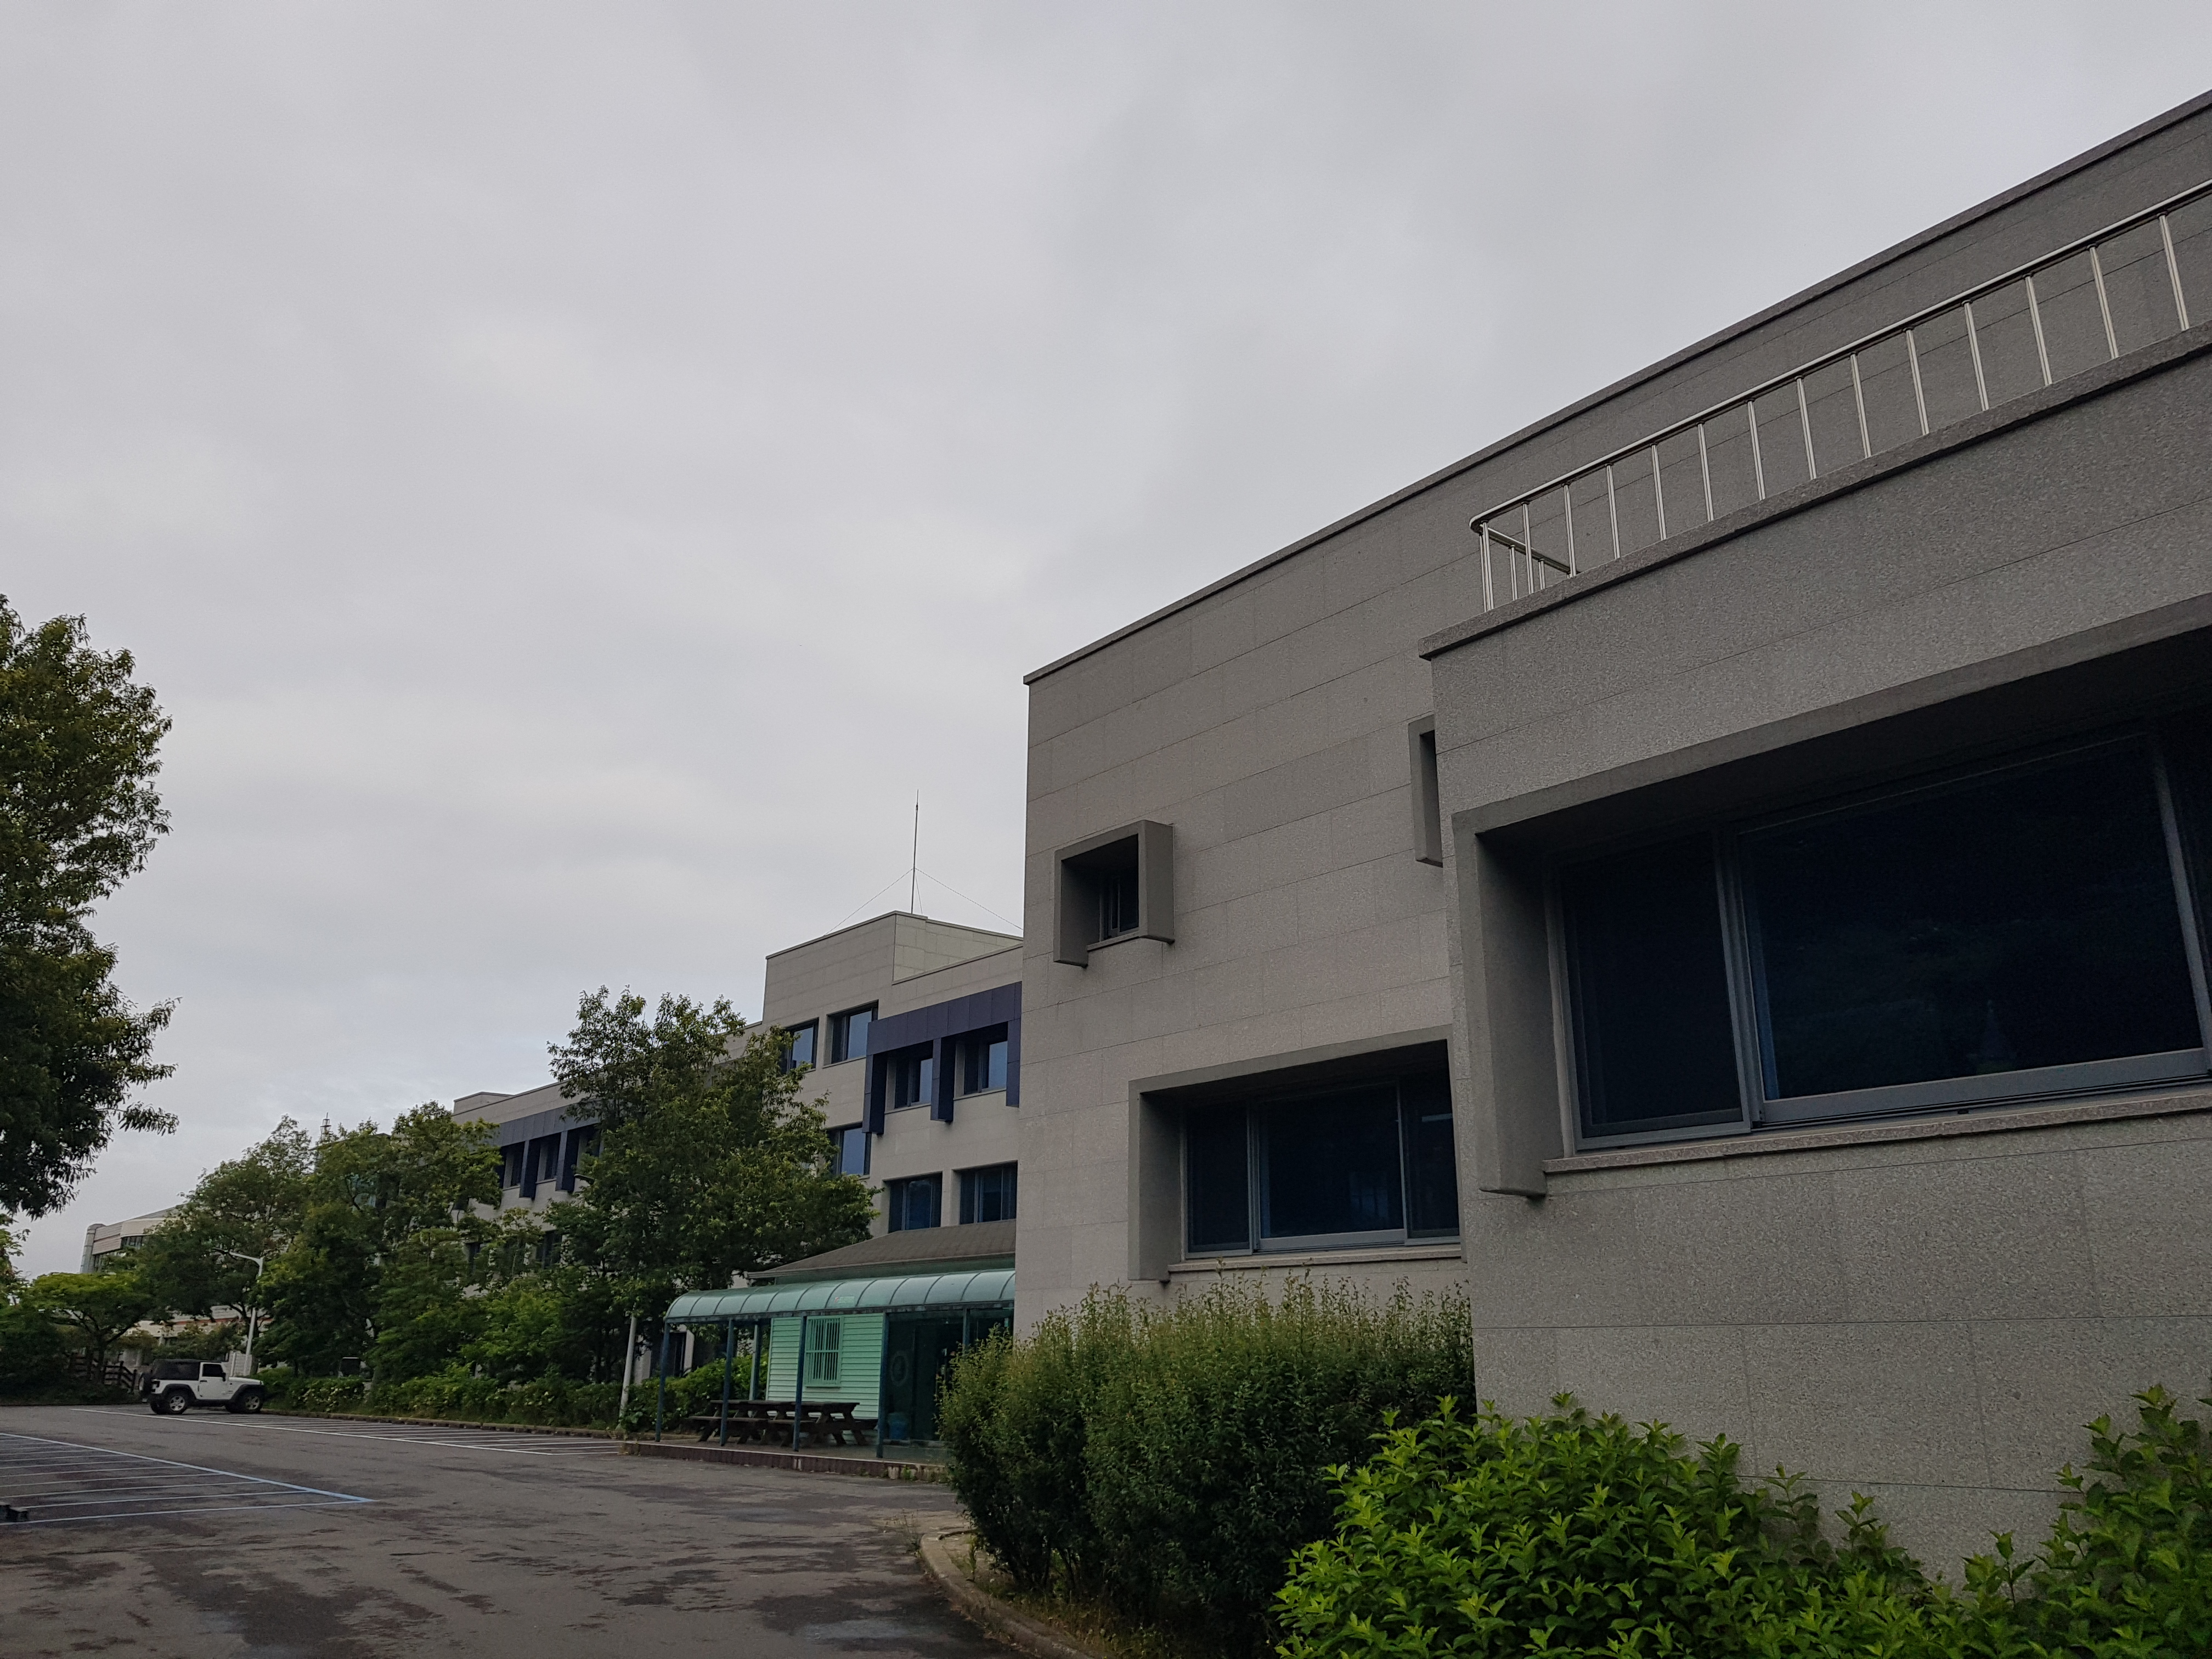College of Social Sciences: (462, 249, 2182, 1514), (394, 849, 1029, 1452), (592, 1178, 1024, 1443)
